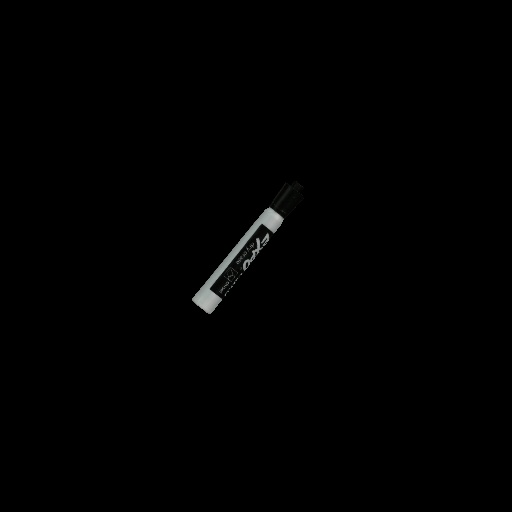Large Marker: (190, 168, 306, 327)
